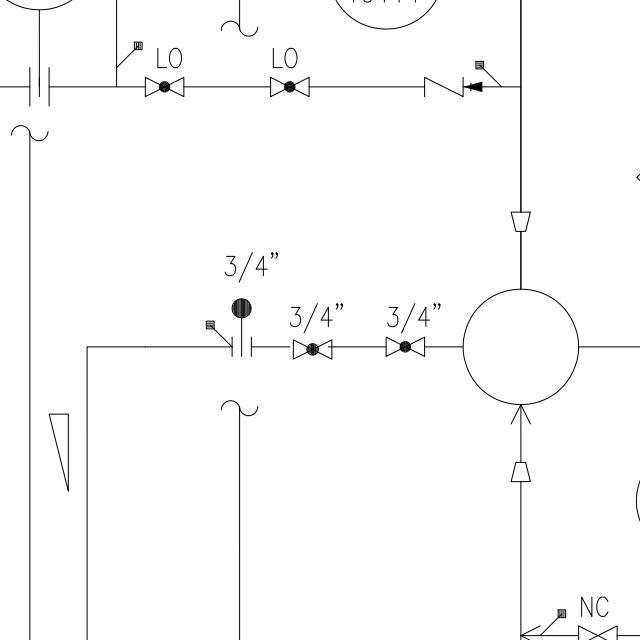BV2: (262, 72, 318, 100), (381, 333, 430, 361), (140, 74, 190, 101), (287, 337, 338, 361)
SP: (508, 456, 535, 489), (508, 209, 534, 236)
